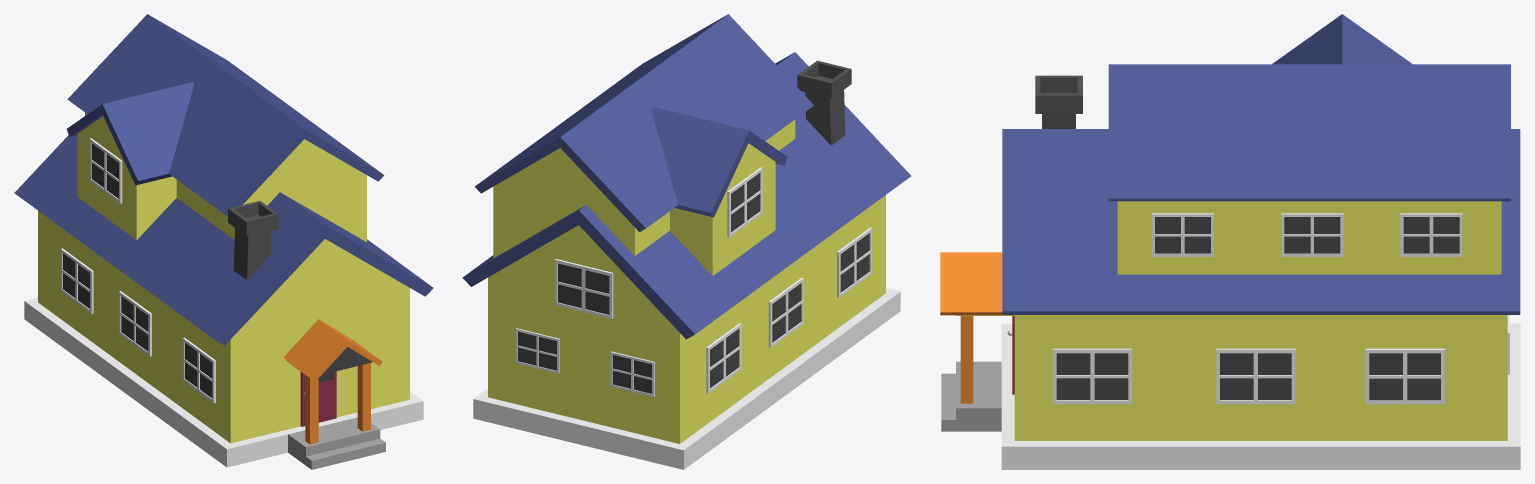
Rendered from House_3.fbx.
The picture shows the model from 3 angles, left to right: view 1: azimuth 30°, elevation 25°; view 2: azimuth 150°, elevation 25°; view 3: azimuth 270°, elevation 25°; orthographic projection. The views are drawn at different scales.
Visible parts, largest first — view 1: House_3; view 2: House_3; view 3: House_3.
Boxes of the visible parts, left/top/right/bottom form: House_3: left=14, top=14, right=433, bottom=469; House_3: left=462, top=14, right=911, bottom=469; House_3: left=940, top=14, right=1520, bottom=469.
Size of the model in its own units: 3.93 by 7.09 by 4.81.
